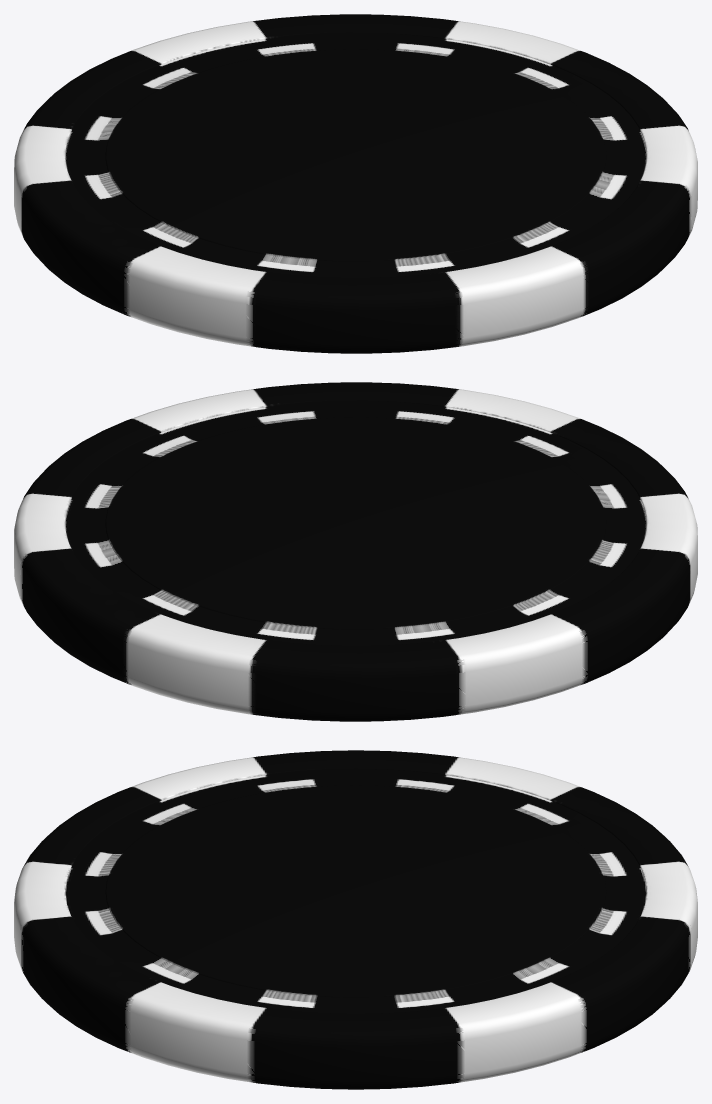
Rendered from black-white.glb.
3 renders of one model, top to bottom at view 1: azimuth 30°, elevation 25°; view 2: azimuth 150°, elevation 25°; view 3: azimuth 270°, elevation 25°, orthographic.
Parts seen in each view (by area): view 1: chips.171_chips_black_bake_0; view 2: chips.171_chips_black_bake_0; view 3: chips.171_chips_black_bake_0.
Part boxes in pixels (box(x1,y1,x2,y2)): chips.171_chips_black_bake_0: box(14, 14, 697, 353); chips.171_chips_black_bake_0: box(14, 382, 697, 721); chips.171_chips_black_bake_0: box(14, 750, 697, 1089).
Bounding box in the file's own units: 2 × 0.1882 × 2.
Materials: 1 (1 with a texture image).
